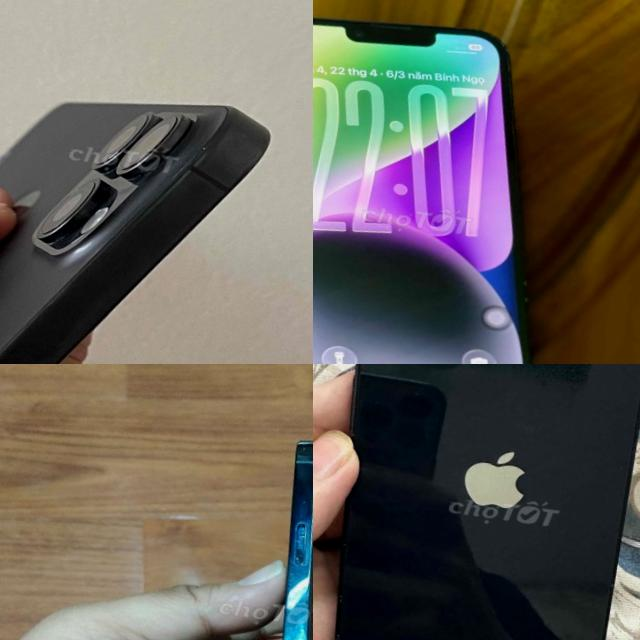gen_12_13: (313, 364, 640, 640), (216, 423, 313, 640)
gen_14: (313, 0, 593, 364)
gen_15: (0, 68, 292, 364)
